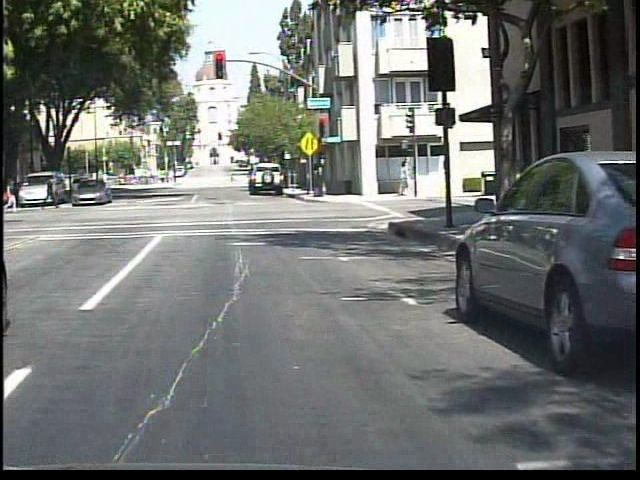person: (41, 171, 57, 212), (4, 175, 14, 214), (223, 170, 237, 188)
